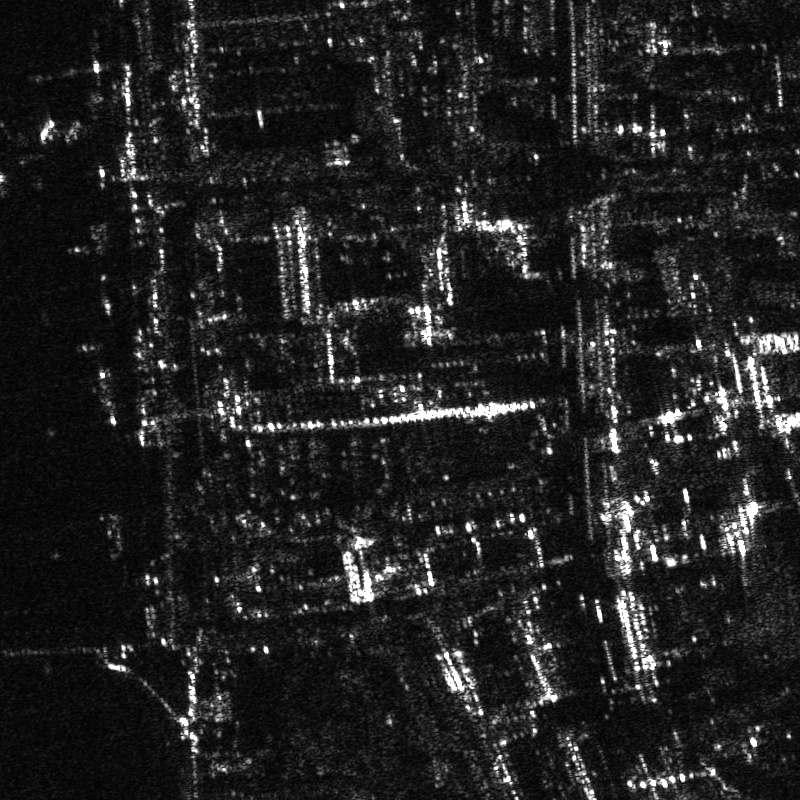A220: (1, 100, 88, 200)
